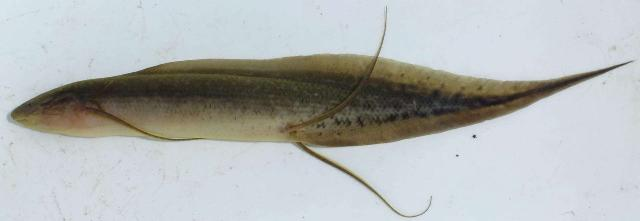Sirip Ekor: (414, 46, 640, 161)
